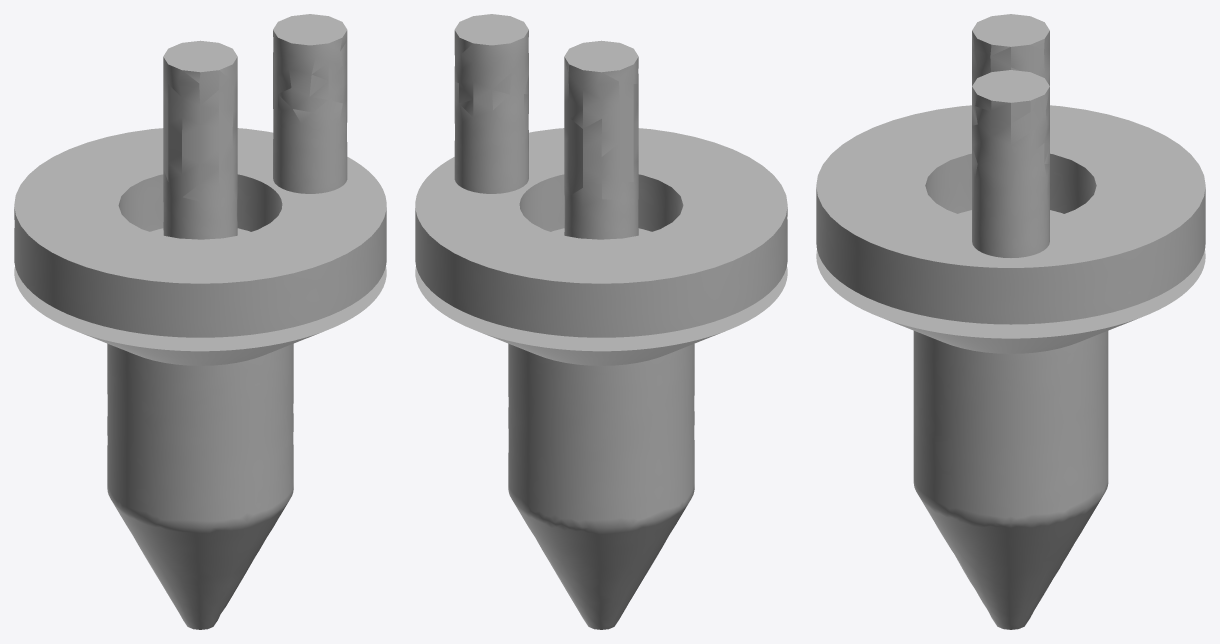
The picture shows the model from 3 angles, left to right: view 1: azimuth 30°, elevation 25°; view 2: azimuth 150°, elevation 25°; view 3: azimuth 270°, elevation 25°; orthographic projection. The views are drawn at different scales.
Size of the model in its own units: 25 by 42 by 25.
1 material, 1 textured.
